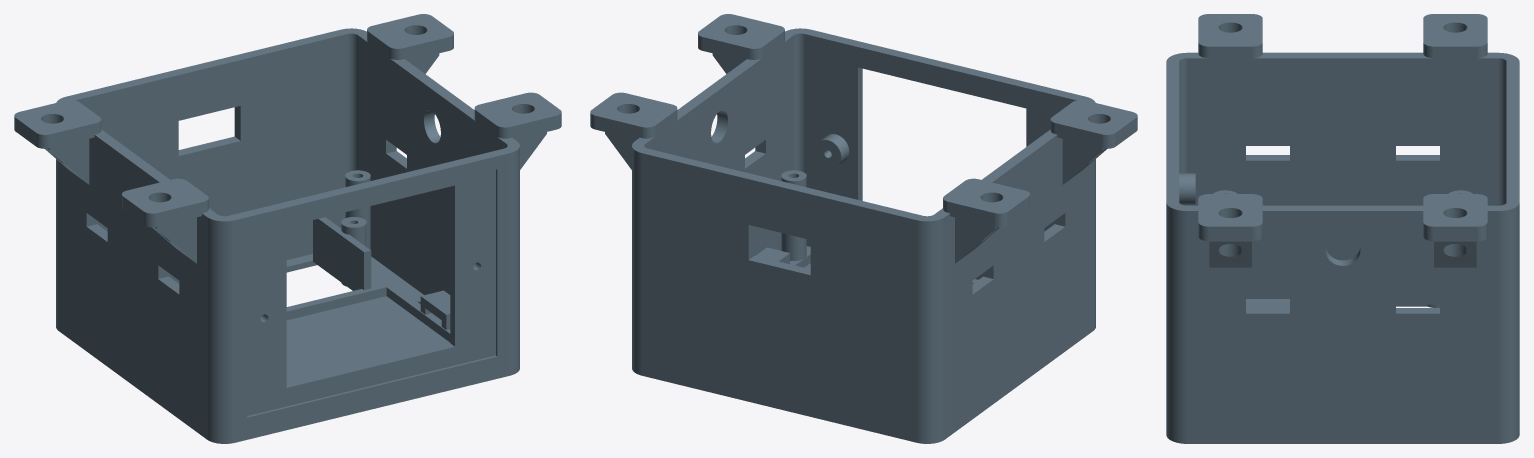
3 renders of one model, left to right at view 1: azimuth 30°, elevation 25°; view 2: azimuth 150°, elevation 25°; view 3: azimuth 270°, elevation 25°, orthographic. The views are drawn at different scales.
Parts seen in each view (by area): view 1: base; view 2: base; view 3: base.
Boxes of the visible parts, left/top/right/bottom form: base: left=14, top=14, right=561, bottom=443; base: left=590, top=14, right=1137, bottom=443; base: left=1166, top=14, right=1519, bottom=443.
Bounding box in the file's own units: 0.094 × 0.0504 × 0.066.
